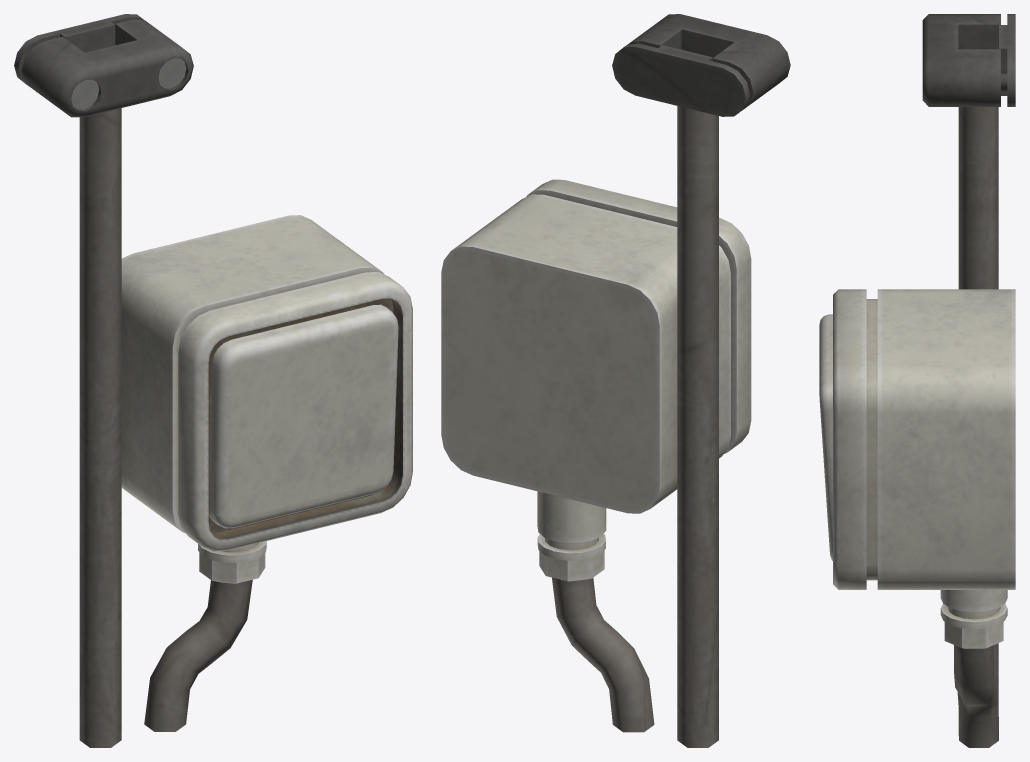
The model's file is cable_cable_lightswitch_double.fbx.
The picture shows the model from 3 angles, left to right: view 1: azimuth 30°, elevation 25°; view 2: azimuth 150°, elevation 25°; view 3: azimuth 270°, elevation 25°; orthographic projection. The views are drawn at different scales.
Visible parts, largest first — view 1: modular_electric_cables_boxes__cable_lightswitch_double; view 2: modular_electric_cables_boxes__cable_lightswitch_double; view 3: modular_electric_cables_boxes__cable_lightswitch_double.
Part boxes in pixels (x1,y1,x2,y2): modular_electric_cables_boxes__cable_lightswitch_double: (14, 14, 412, 747); modular_electric_cables_boxes__cable_lightswitch_double: (441, 14, 790, 747); modular_electric_cables_boxes__cable_lightswitch_double: (819, 14, 1015, 747).
Size of the model in its own units: 0.0948 by 0.2073 by 0.0547.
